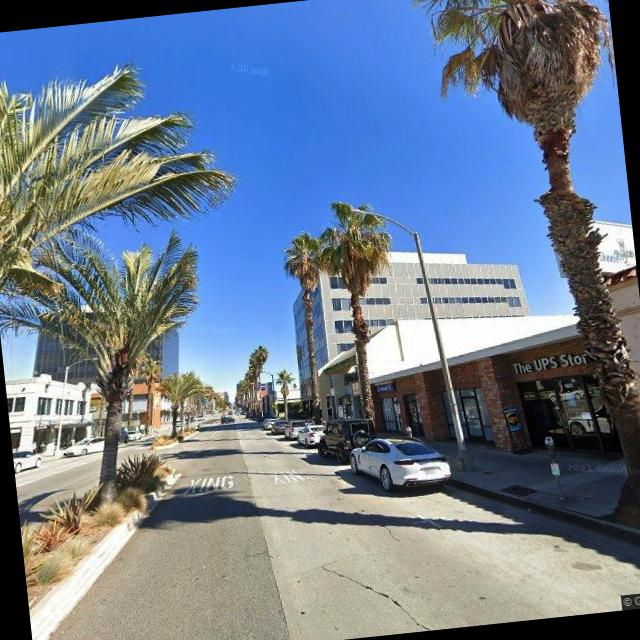crack: (321, 550, 454, 640), (375, 515, 399, 546)
